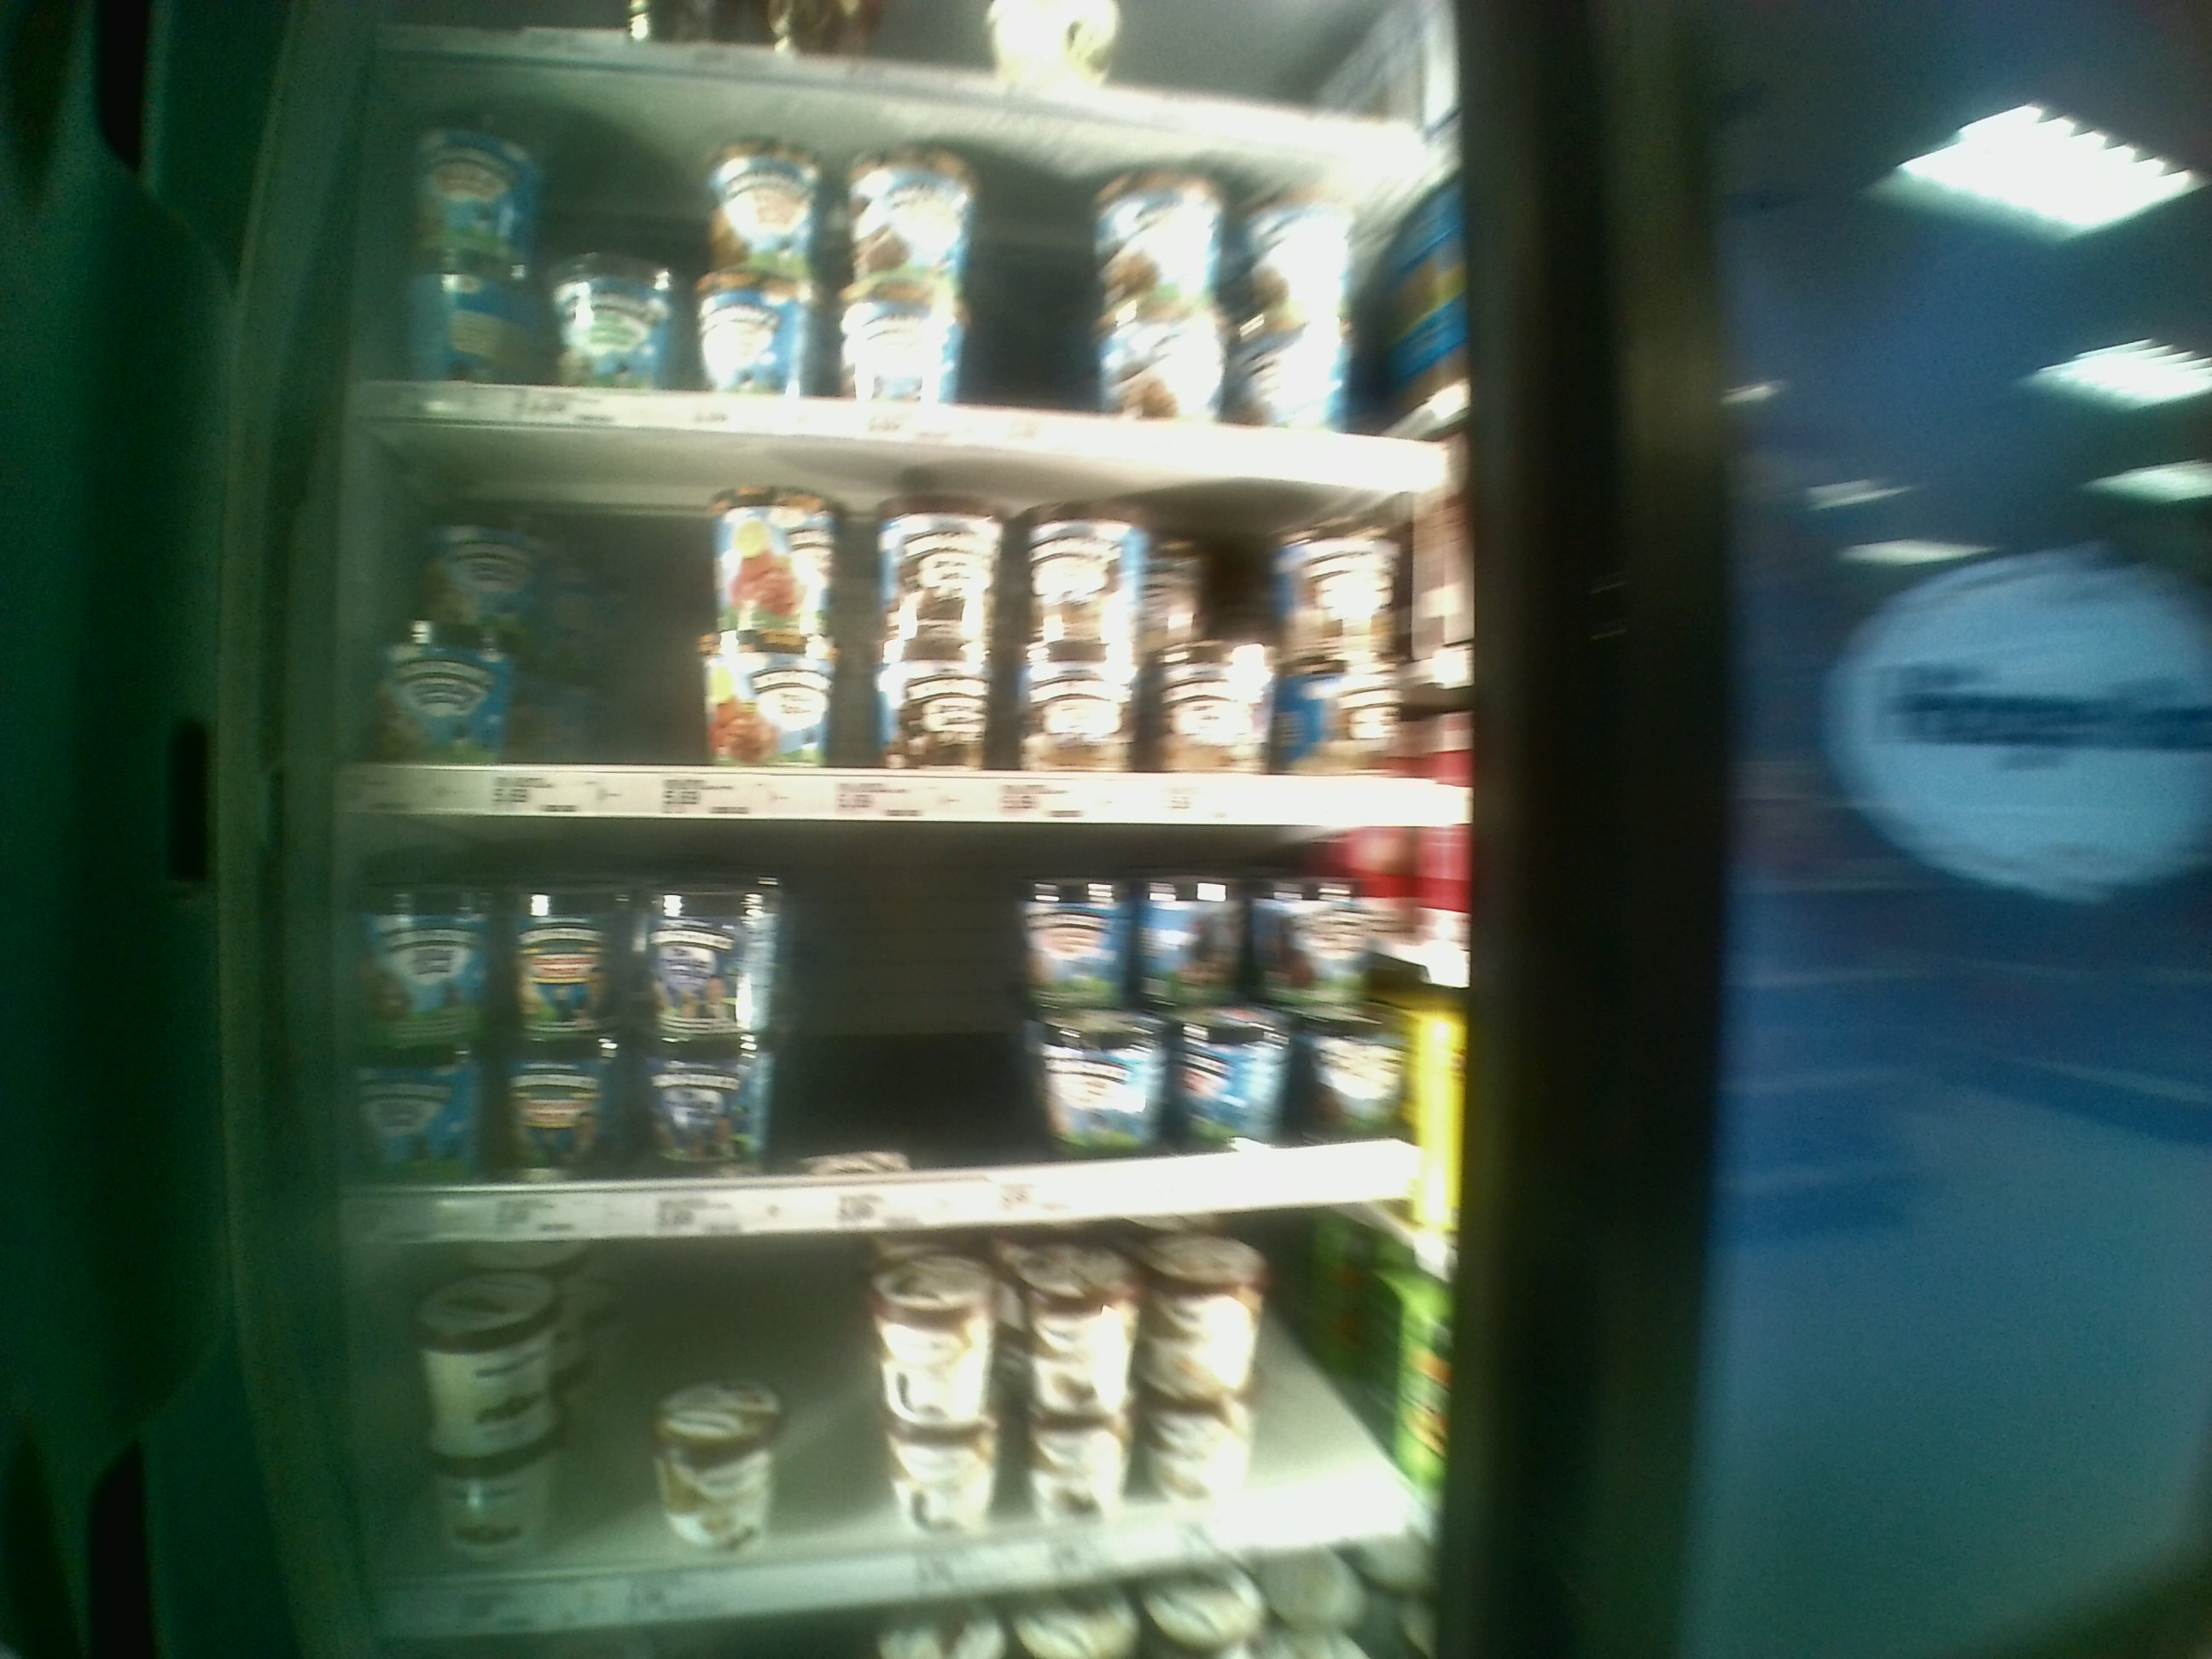shelf: (341, 823, 1465, 1244), (347, 415, 1486, 817)
